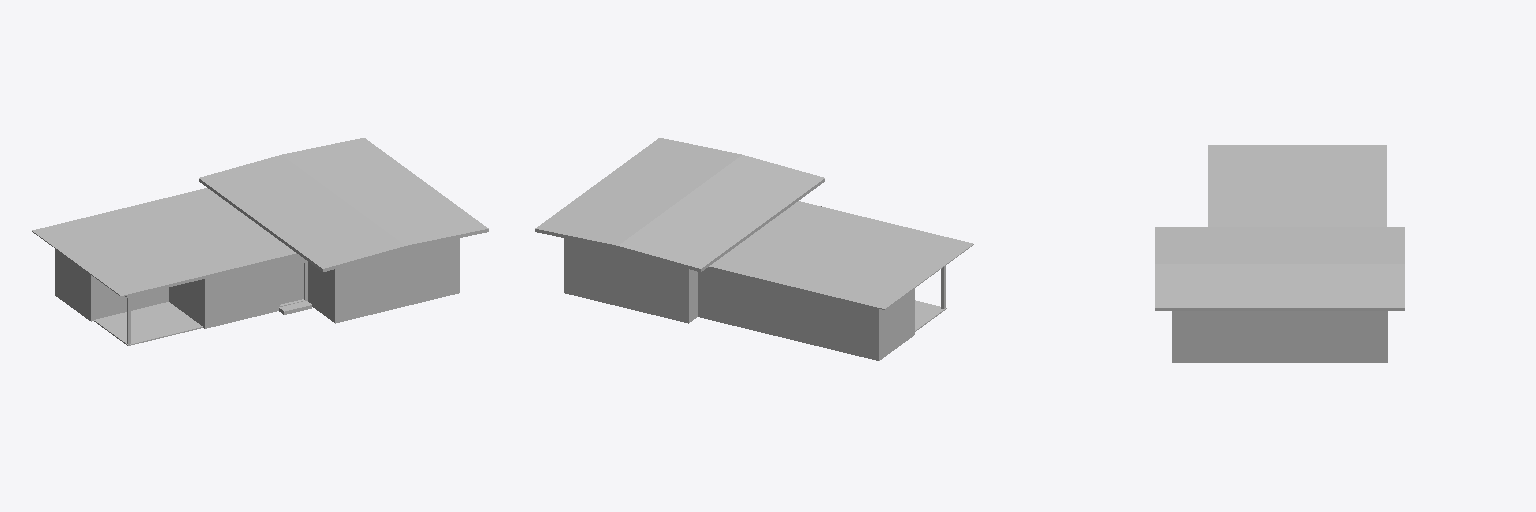
The model's file is GoodspringsHome01LOD.obj.
The picture shows the model from 3 angles: view 1: azimuth 30°, elevation 25°; view 2: azimuth 150°, elevation 25°; view 3: azimuth 270°, elevation 25°; orthographic projection.
Visible parts, largest first — view 1: collision; view 2: collision; view 3: collision.
Part boxes in pixels (x1,y1,x2,y2): collision: (32,138,488,345); collision: (535,138,973,360); collision: (1155,145,1404,362).
Size of the model in its own units: 1403 by 270 by 887.